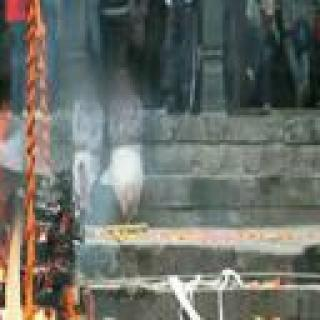fire: (0, 107, 32, 320)
